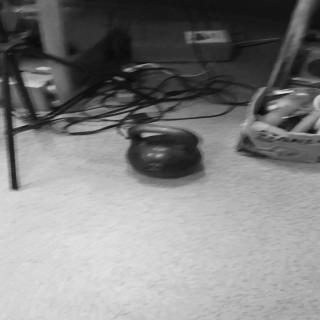kettlebell: (126, 124, 205, 182)
